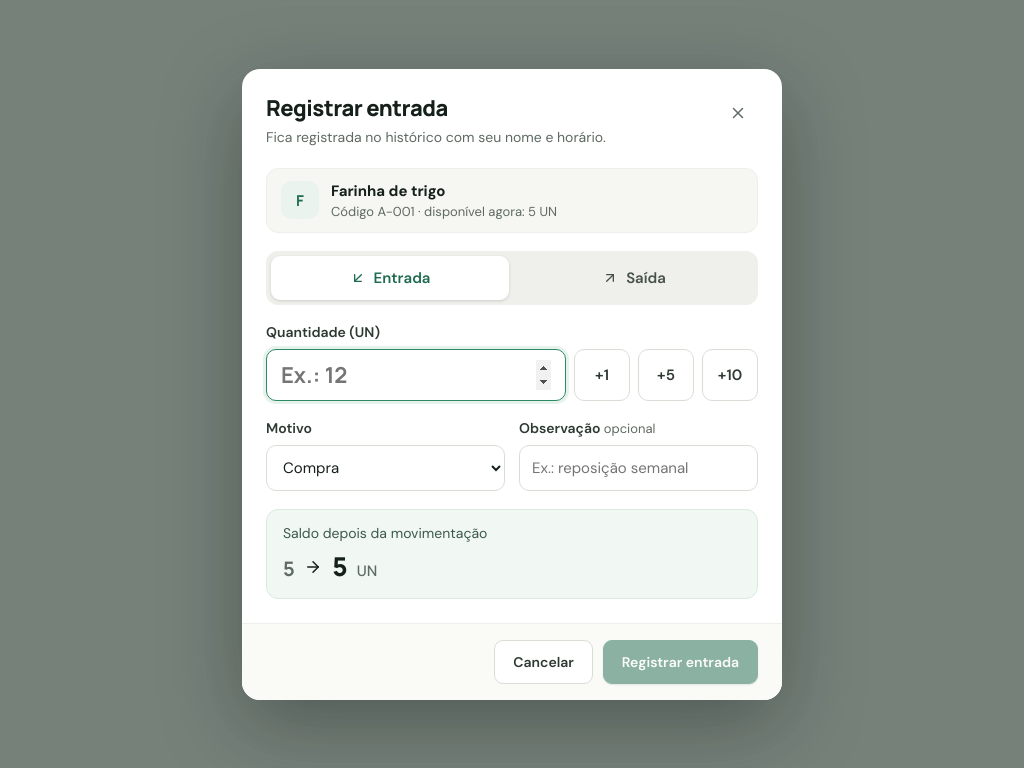
Test: MovementModal › bloqueia fração em unidade inteira
Type "1.5" into the number field labelled "Quantidade (UN) +1 +5 +10". click: x=416, y=374
box: left=266, top=348, right=566, bottom=400
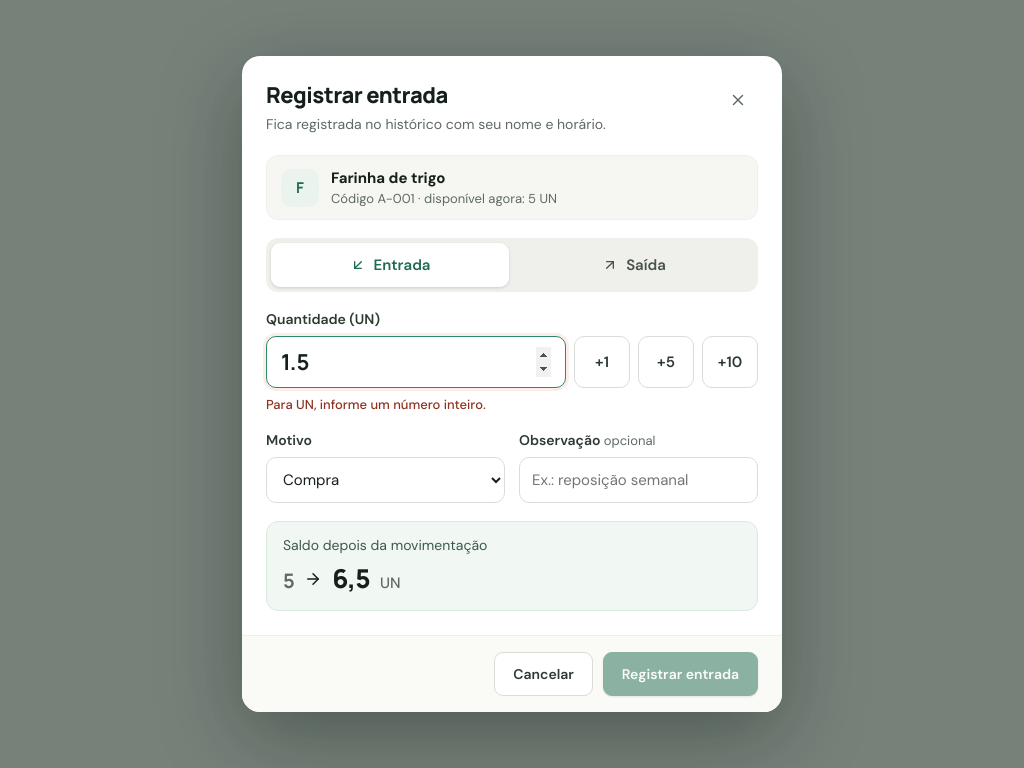
Expected: the button "Registrar entrada" is disabled, left=603, top=652, right=758, bottom=696
Result: the text "Para UN, informe um número inteiro." is shown at left=266, top=396, right=486, bottom=413
